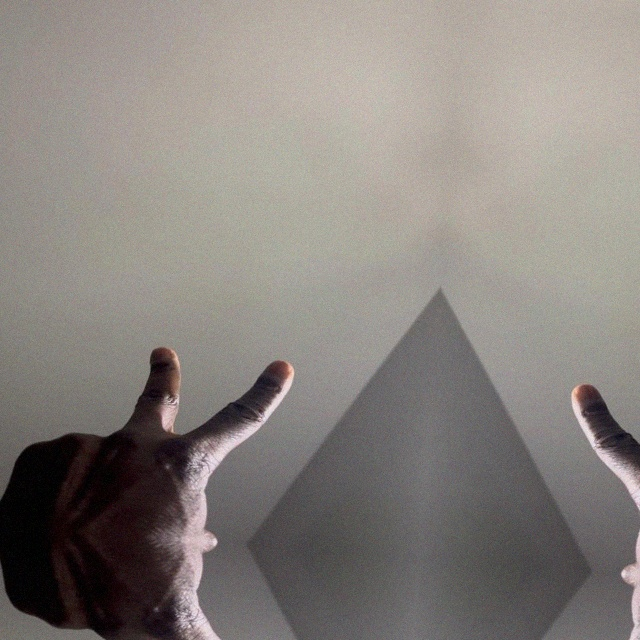Scissors: (0, 332, 294, 548)
